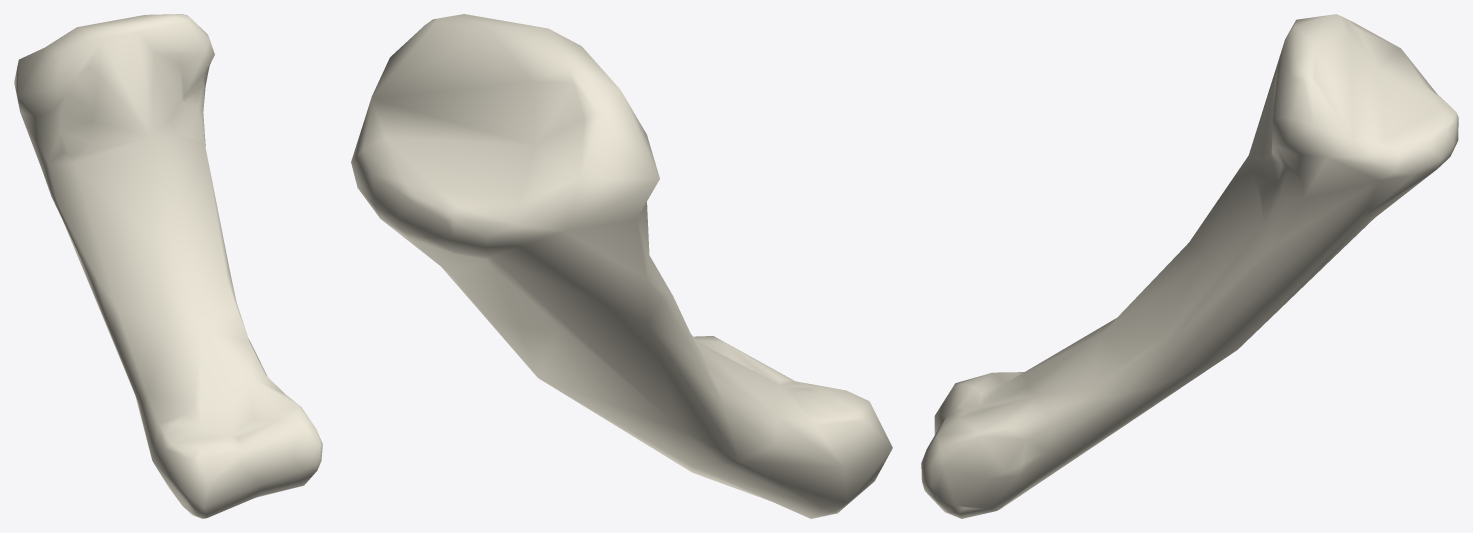
The picture shows the model from 3 angles, left to right: view 1: azimuth 30°, elevation 25°; view 2: azimuth 150°, elevation 25°; view 3: azimuth 270°, elevation 25°; orthographic projection. The views are drawn at different scales.
Visible parts, largest first — view 1: ZA_4869c6ede8bd4690; view 2: ZA_4869c6ede8bd4690; view 3: ZA_4869c6ede8bd4690.
Part boxes in pixels (x1,y1,x2,y2): ZA_4869c6ede8bd4690: [14, 14, 322, 518]; ZA_4869c6ede8bd4690: [351, 14, 892, 518]; ZA_4869c6ede8bd4690: [921, 14, 1458, 518].
Size of the model in its own units: 0.0126 by 0.0248 by 0.0251.
